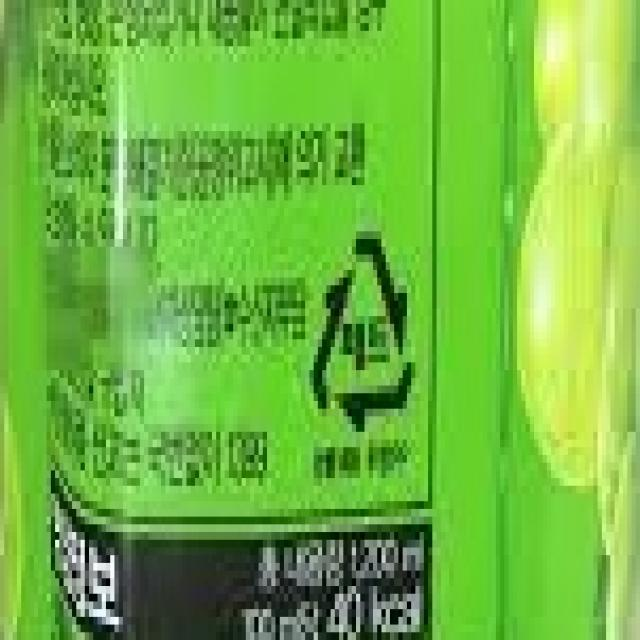PET: (308, 222, 421, 437)
